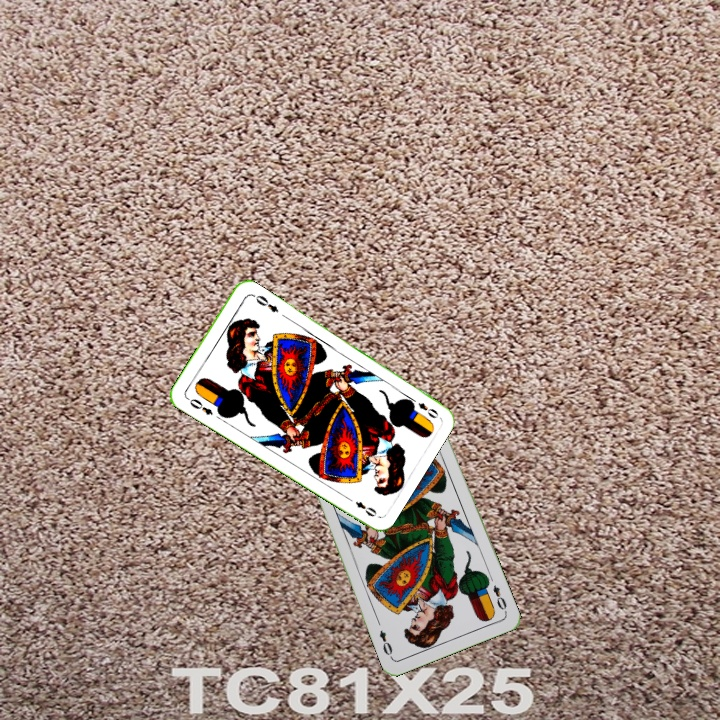EO: (183, 394, 216, 418), (489, 581, 509, 615), (414, 398, 441, 421)
